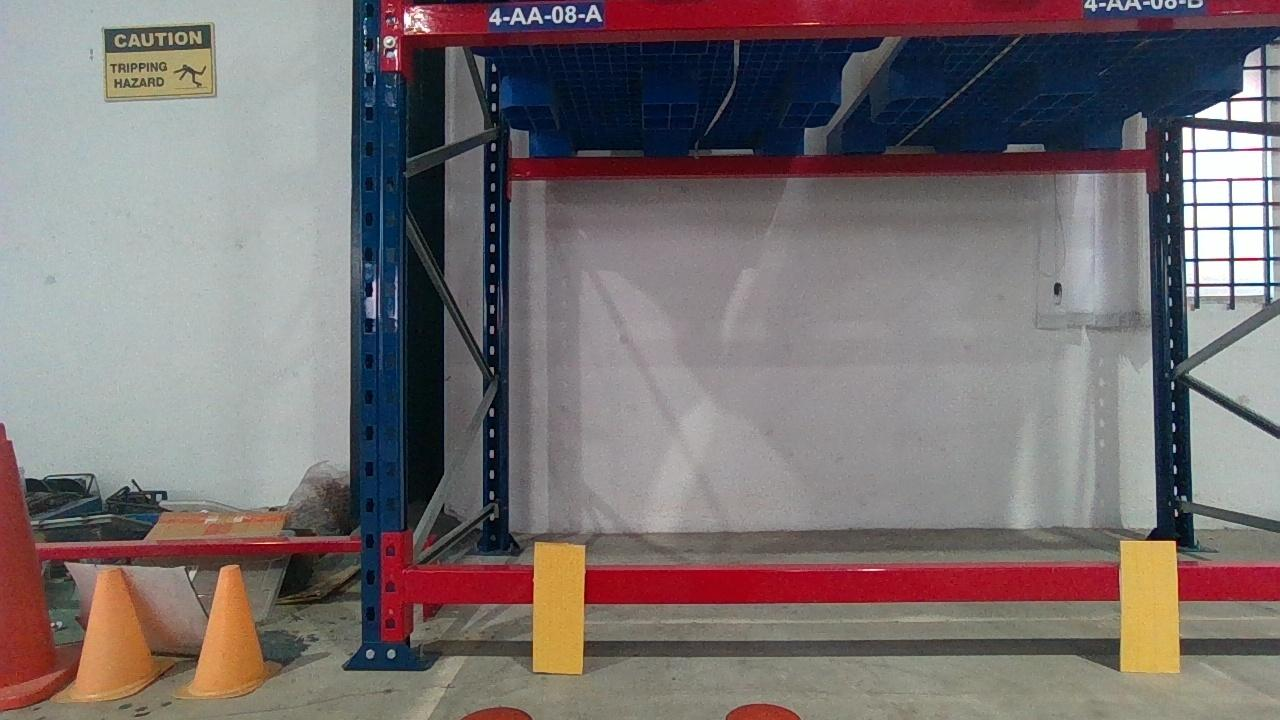h_rack: (404, 565, 1276, 604), (400, 0, 1279, 36)
orange_strip: (1122, 539, 1182, 672), (535, 539, 583, 670)
